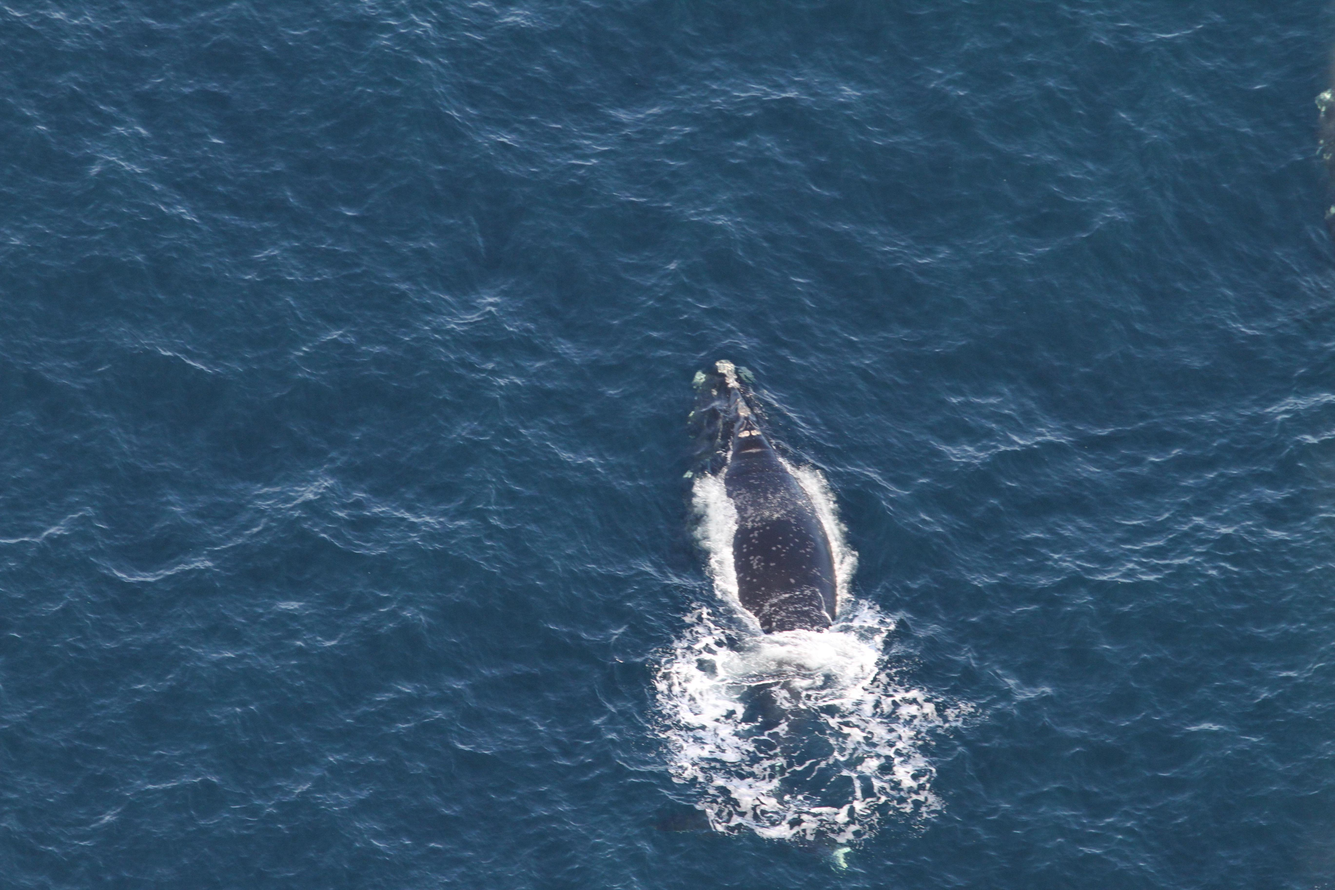whale: (668, 350, 872, 890)
